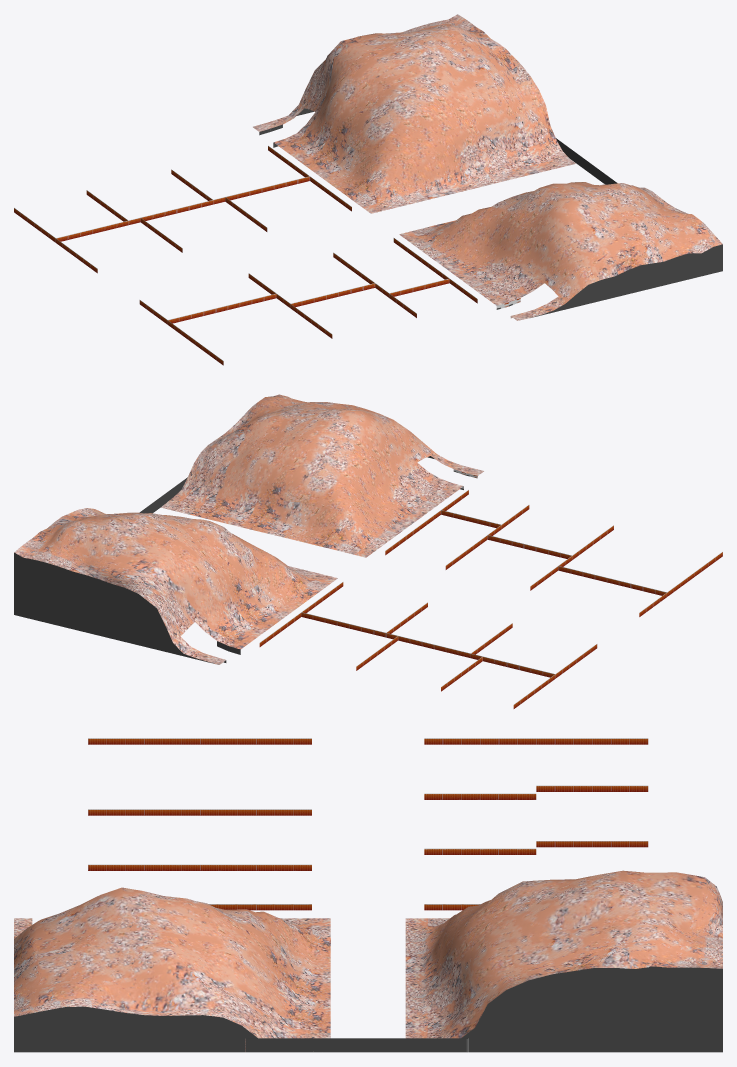
File: object_8_lev3.glb
The picture shows the model from 3 angles, top to bottom: view 1: azimuth 30°, elevation 25°; view 2: azimuth 150°, elevation 25°; view 3: azimuth 270°, elevation 25°; orthographic projection. The views are drawn at different scales.
Visible parts, largest first — view 1: object_8_lev3; view 2: object_8_lev3; view 3: object_8_lev3.
Part boxes in pixels (left/top/right/bottom): object_8_lev3: left=14, top=14, right=722, bottom=365; object_8_lev3: left=14, top=394, right=722, bottom=708; object_8_lev3: left=14, top=738, right=722, bottom=1052.
Bounding box in the file's own units: 83.11 × 15.08 × 80.9.
1 material, 1 textured.
